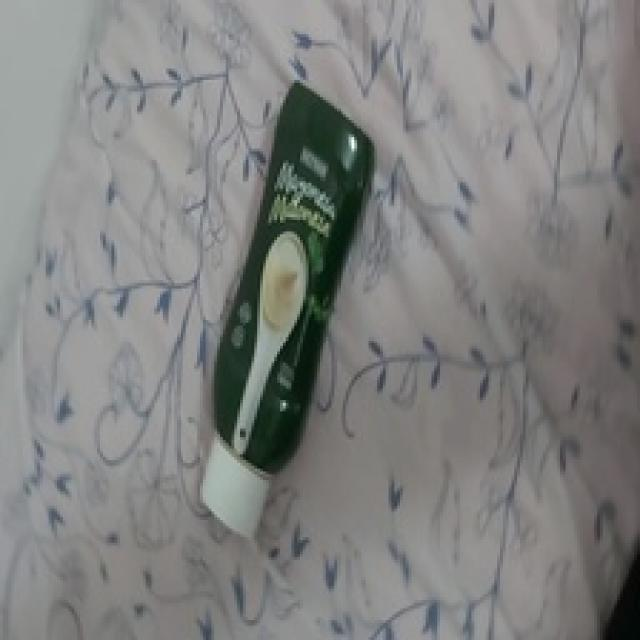Plastic: (204, 81, 375, 543)
